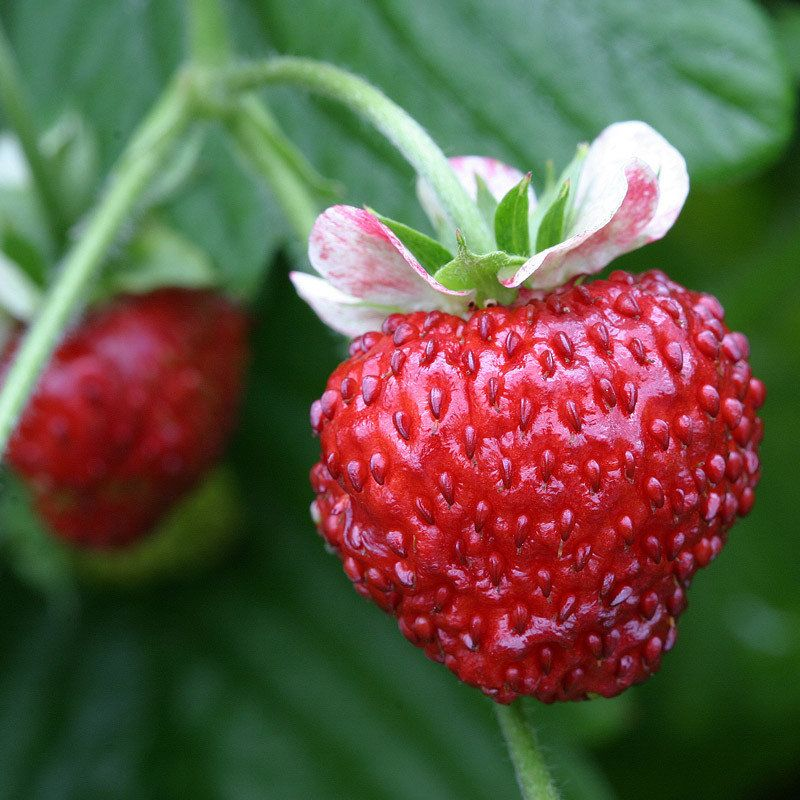ripe: (307, 272, 774, 710), (1, 280, 257, 560)
